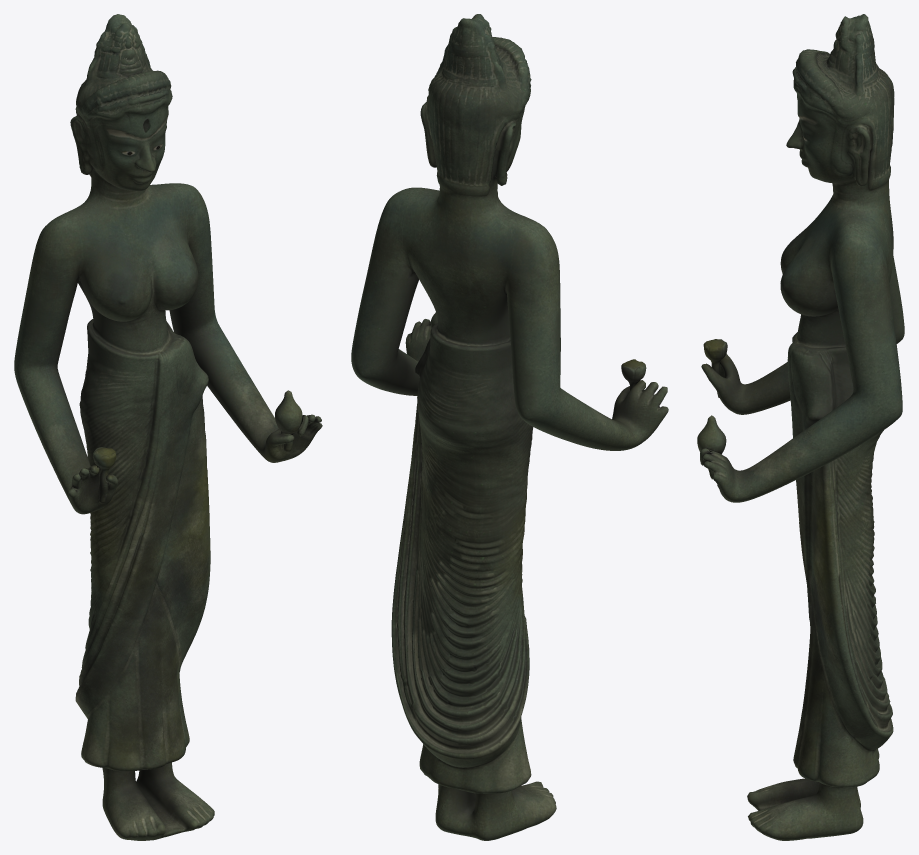
File: taratest.glb
3 views of the same model, side by side, from view 1: azimuth 30°, elevation 25°; view 2: azimuth 150°, elevation 25°; view 3: azimuth 270°, elevation 25° (orthographic). The views are drawn at different scales.
Parts seen in each view (by area): view 1: Tara_UV_ed; view 2: Tara_UV_ed; view 3: Tara_UV_ed.
Part boxes in pixels (x1=…): Tara_UV_ed: x1=14, y1=14, x2=322, y2=840; Tara_UV_ed: x1=351, y1=14, x2=668, y2=840; Tara_UV_ed: x1=697, y1=14, x2=904, y2=840.
Size of the model in its own units: 3.33 by 9.92 by 2.33.
1 material, 1 textured.
